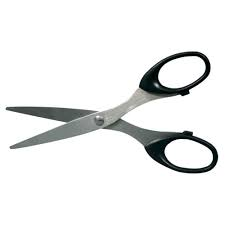tihiras: (4, 48, 220, 181)
